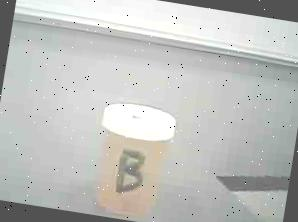Bottle B: (78, 90, 183, 222)
